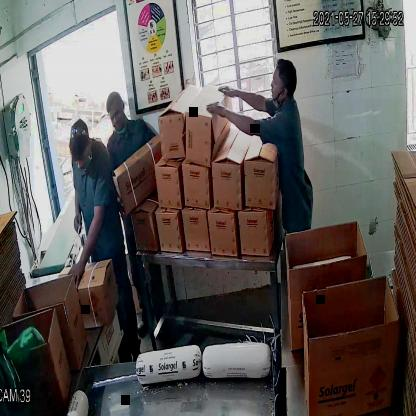no_goggles: (106, 102, 127, 125)
